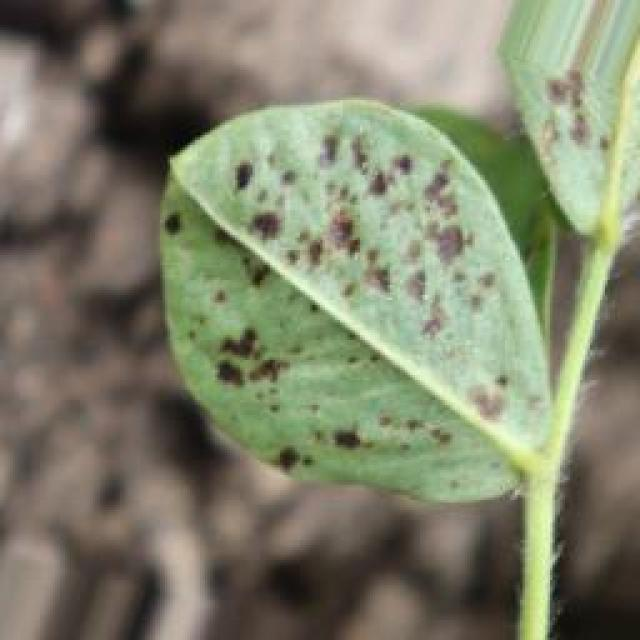Whitefly: (146, 102, 556, 532), (457, 35, 640, 264)
